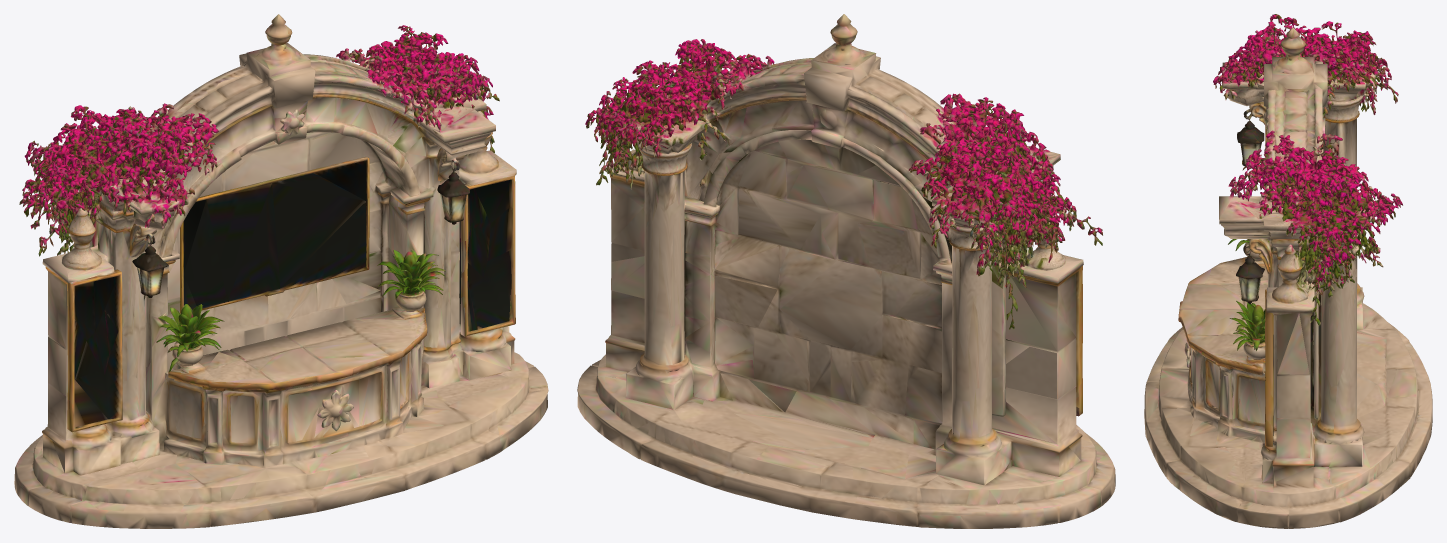
The model's file is stand.glb.
The picture shows the model from 3 angles, left to right: view 1: azimuth 30°, elevation 25°; view 2: azimuth 150°, elevation 25°; view 3: azimuth 270°, elevation 25°; orthographic projection. The views are drawn at different scales.
Visible parts, largest first — view 1: Mesh_0; view 2: Mesh_0; view 3: Mesh_0.
Part boxes in pixels (bbox=[...]): Mesh_0: bbox=[14, 14, 548, 528]; Mesh_0: bbox=[577, 14, 1115, 528]; Mesh_0: bbox=[1144, 14, 1432, 528].
Bounding box in the file's own units: 1.9 × 1.53 × 1.03.
1 material, 1 textured.
